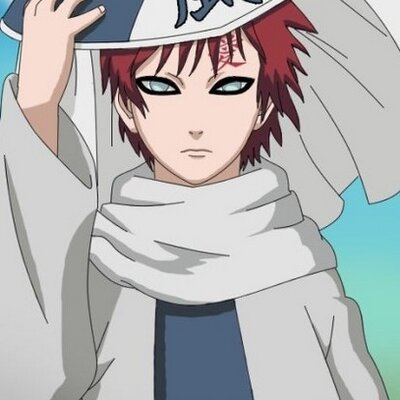gaara: (111, 25, 278, 187)
